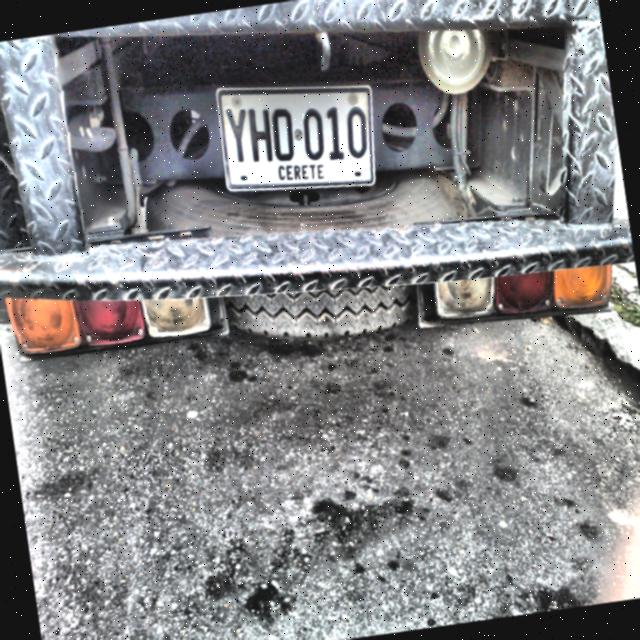plate: (218, 89, 374, 189)
